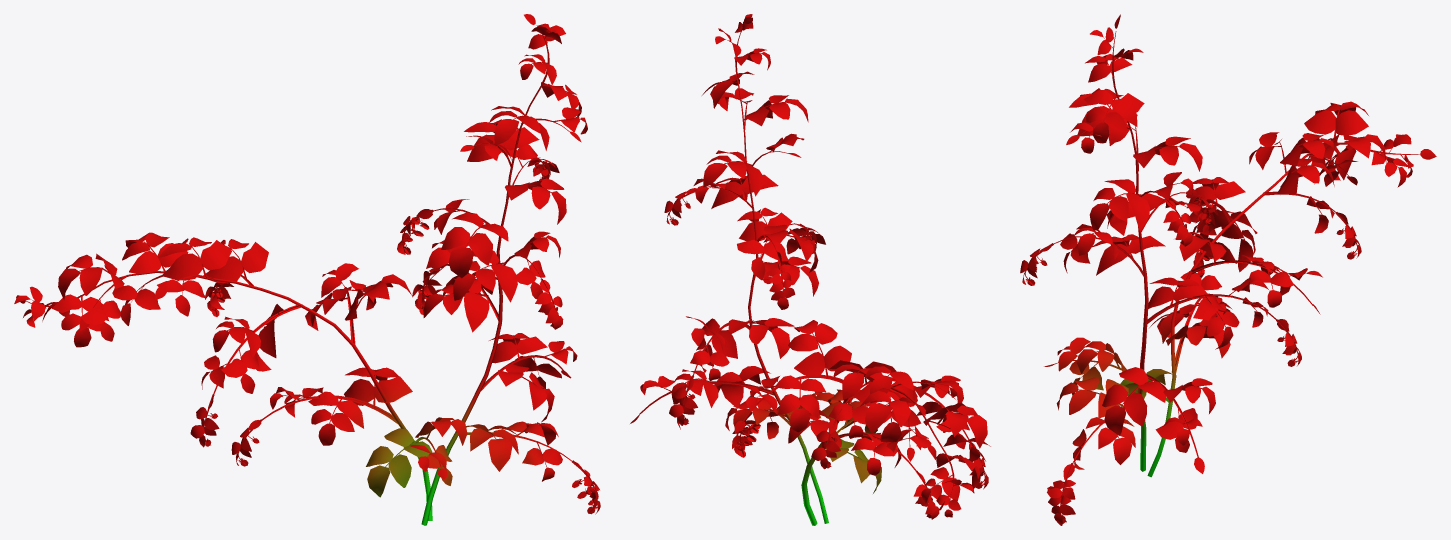
File: Raspberry_LOD1_Var4_wf0oefeja.fbx
3 renders of one model, left to right at view 1: azimuth 30°, elevation 25°; view 2: azimuth 150°, elevation 25°; view 3: azimuth 270°, elevation 25°, orthographic. The views are drawn at different scales.
Visible parts, largest first — view 1: _5698_Var4_LOD1; view 2: _5698_Var4_LOD1; view 3: _5698_Var4_LOD1.
Part boxes in pixels (<box>): _5698_Var4_LOD1: <box>14,14,600,525</box>; _5698_Var4_LOD1: <box>630,14,990,525</box>; _5698_Var4_LOD1: <box>1020,14,1436,525</box>.
Bounding box in the file's own units: 100 × 104 × 78.63.
